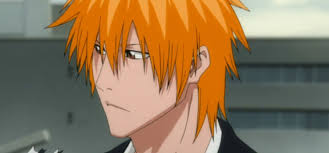Ichigo: (78, 1, 209, 140)
